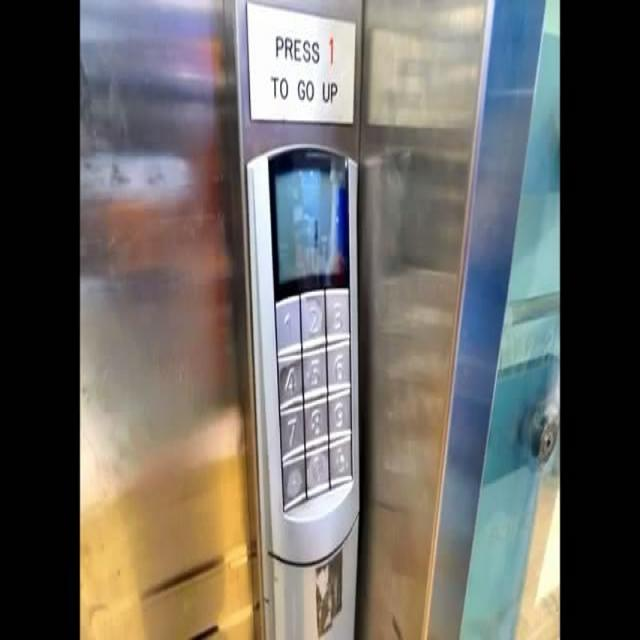1: (271, 292, 301, 357)
2: (297, 287, 327, 352)
3: (322, 284, 351, 345)
4: (274, 349, 304, 412)
5: (299, 343, 329, 405)
6: (323, 336, 352, 399)
7: (276, 400, 305, 463)
8: (300, 391, 329, 453)
9: (324, 384, 353, 444)
blur: (277, 448, 306, 511), (302, 438, 331, 498), (326, 431, 354, 489)
led: (262, 142, 352, 290)
